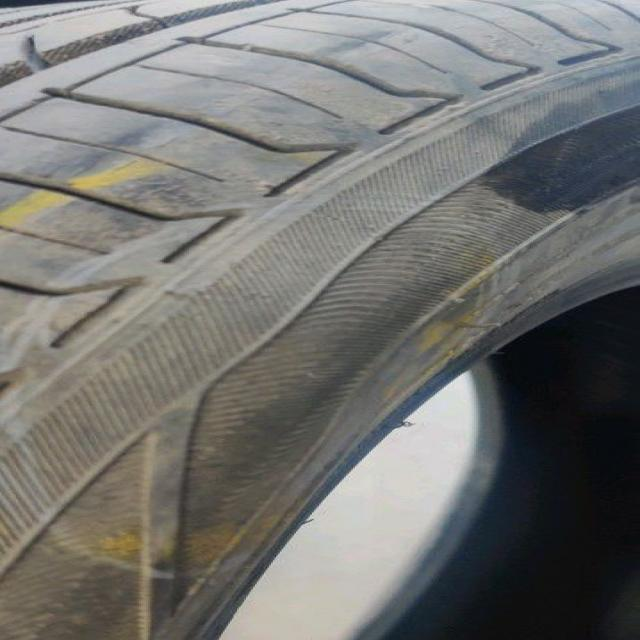Bulge: (0, 189, 524, 507)
